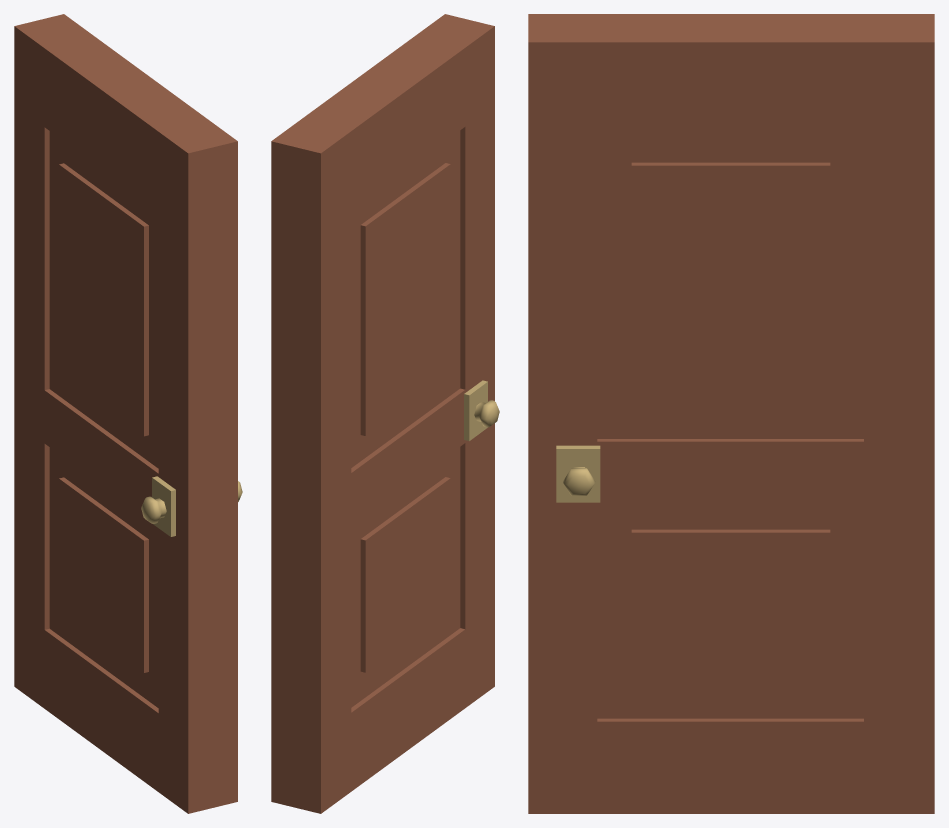
Rendered from Door_1.fbx.
The picture shows the model from 3 angles, left to right: view 1: azimuth 30°, elevation 25°; view 2: azimuth 150°, elevation 25°; view 3: azimuth 270°, elevation 25°; orthographic projection. The views are drawn at different scales.
Visible parts, largest first — view 1: 08.007; view 2: 08.007; view 3: 08.007.
Part boxes in pixels (x1=…): 08.007: x1=14, y1=14, x2=242, y2=813; 08.007: x1=271, y1=14, x2=499, y2=813; 08.007: x1=528, y1=14, x2=934, y2=813.
Bounding box in the file's own units: 38.09 × 251 × 120.
1 material, 1 textured.
